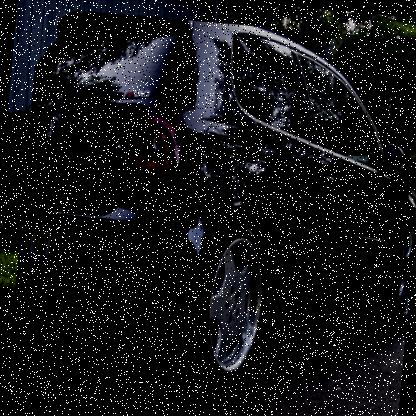Car: (10, 7, 415, 390)
